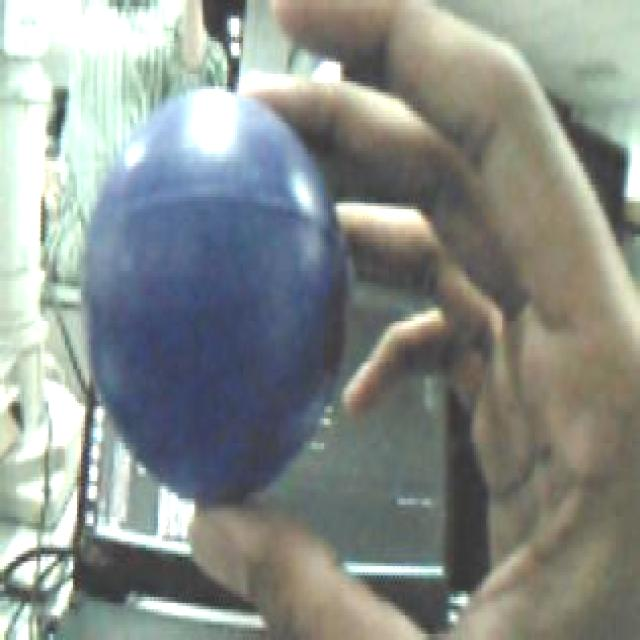BallPurple: (87, 89, 346, 508)
